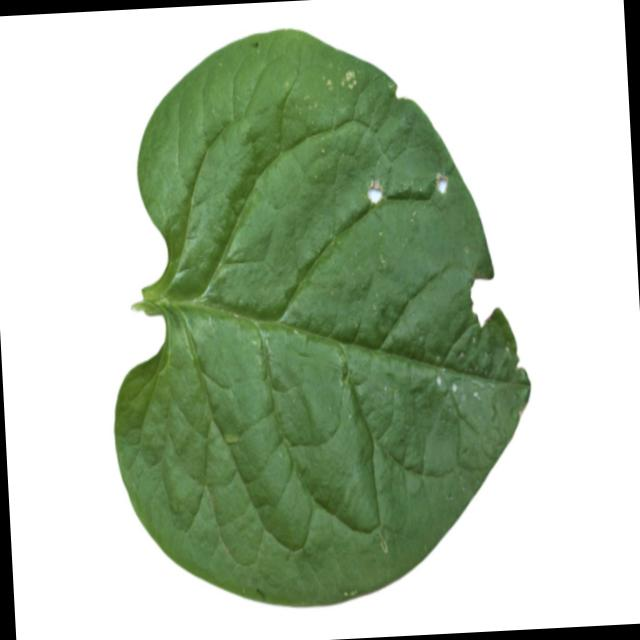Medicinal-Basale: (94, 15, 542, 621)
